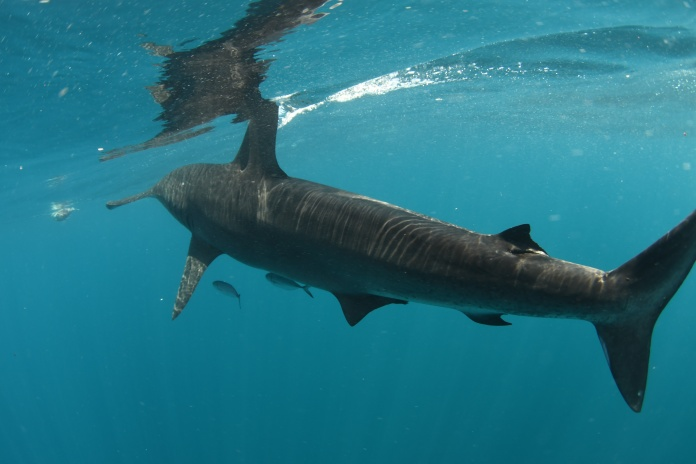Hammer: (103, 79, 695, 427)
